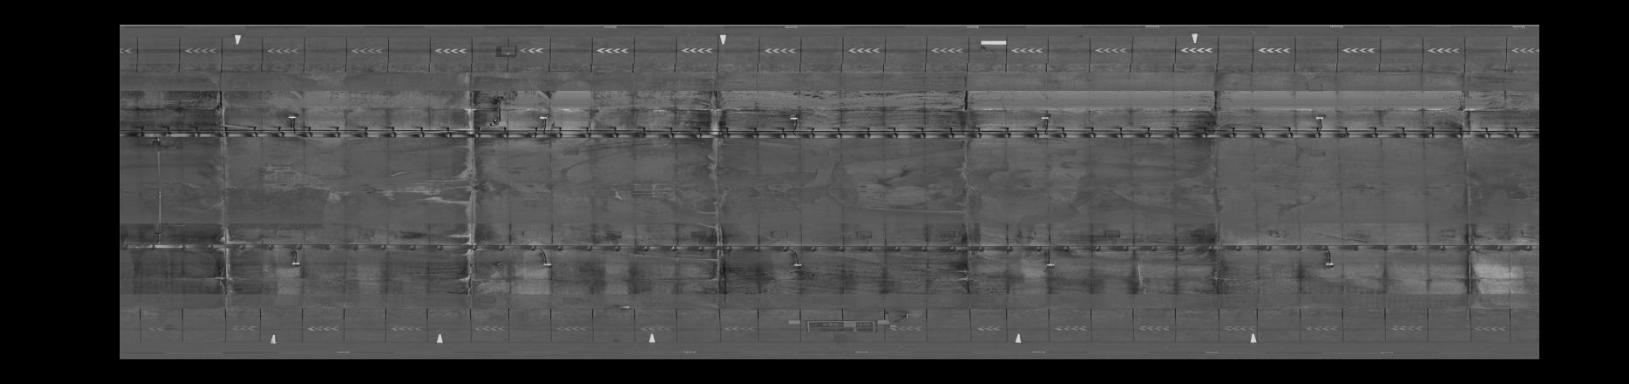light: (286, 257, 309, 272), (533, 113, 554, 124), (285, 111, 301, 124), (537, 259, 557, 270), (787, 260, 807, 270), (1040, 259, 1058, 270), (1321, 258, 1337, 270), (1035, 113, 1053, 122), (1310, 114, 1328, 124), (787, 113, 802, 124)
